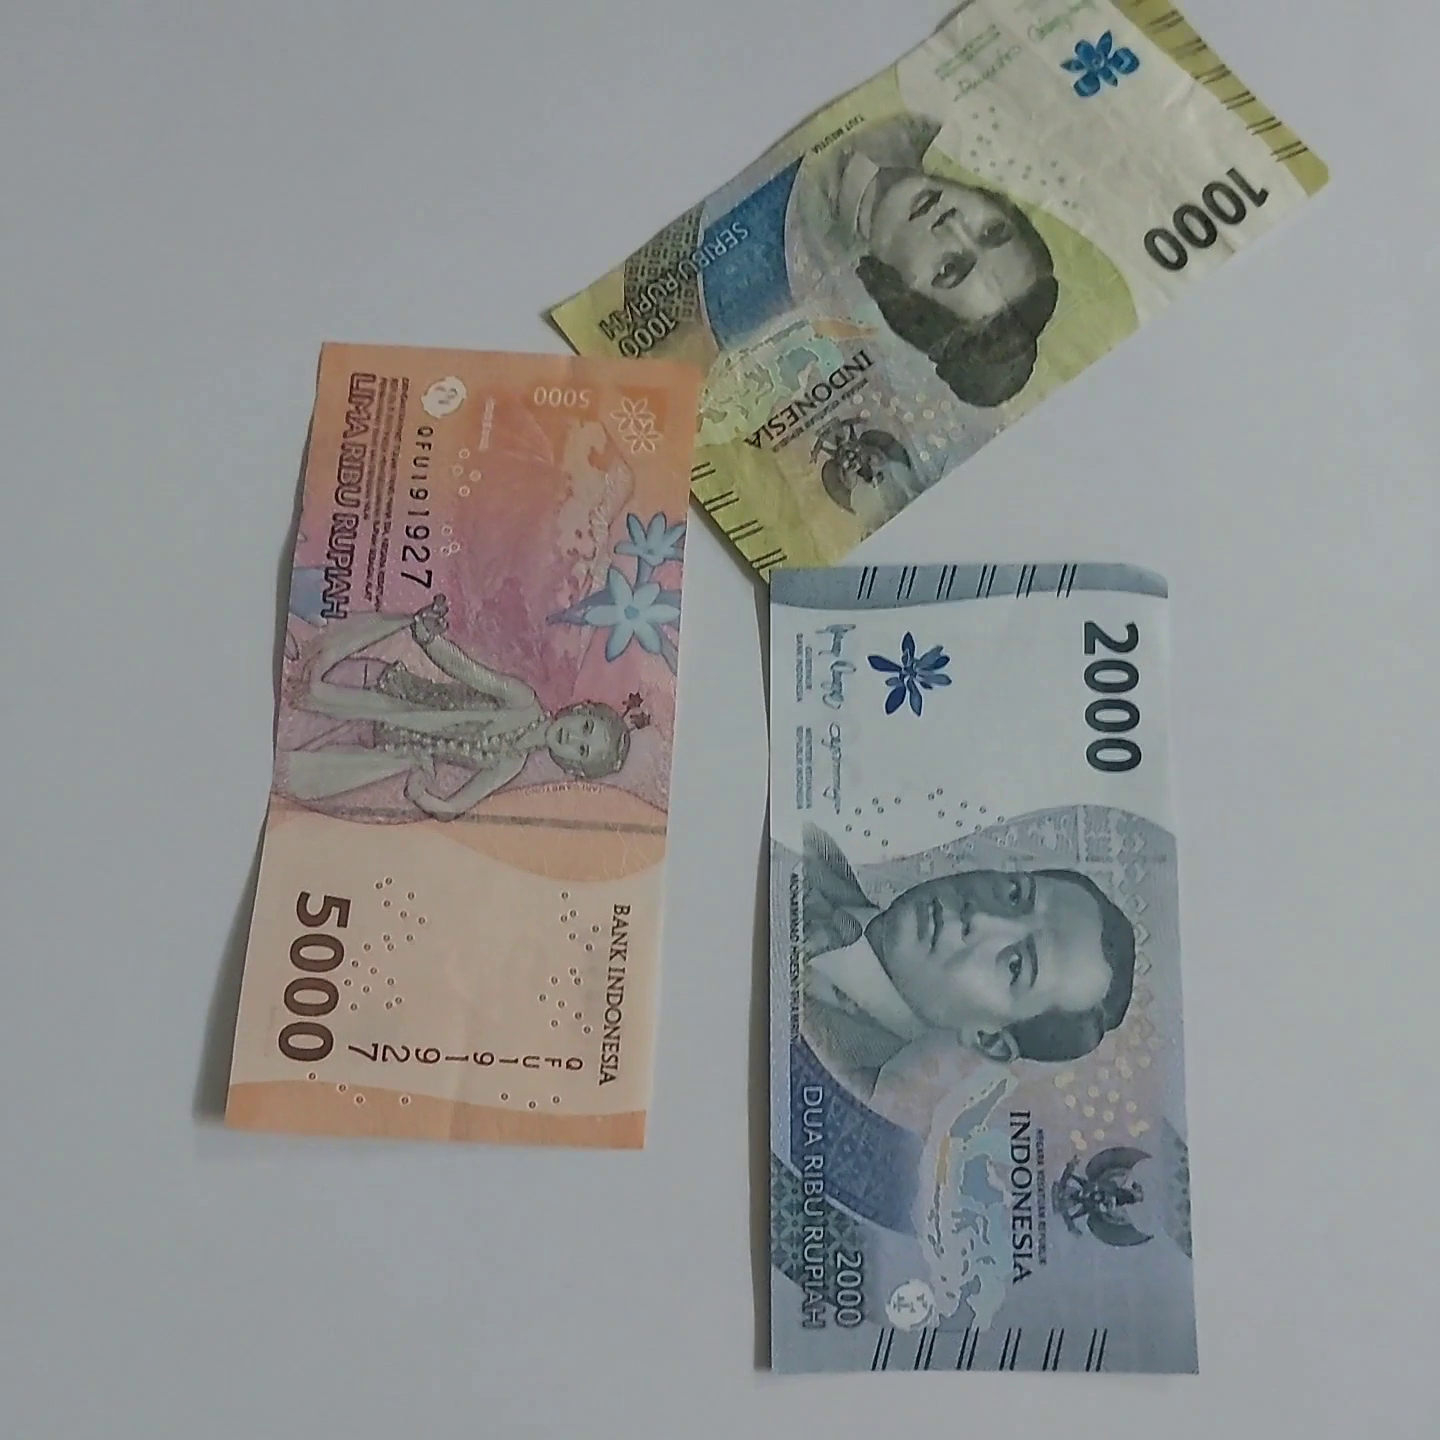1k: (576, 0, 1331, 447)
2k: (731, 562, 1221, 1390)
5k: (243, 318, 690, 1201)
